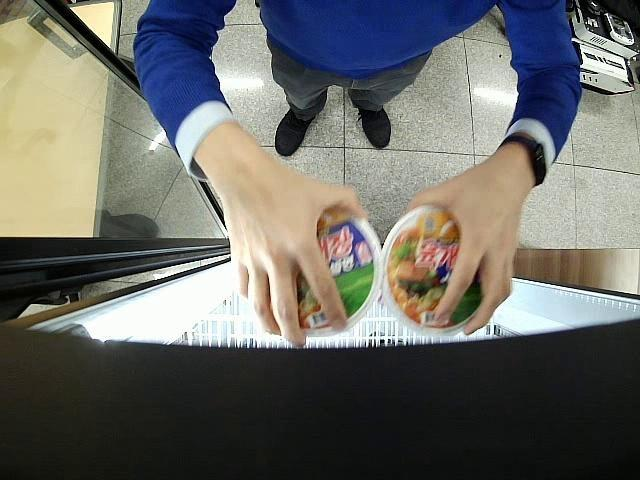09_yukGaeJang: (270, 207, 380, 337), (382, 204, 484, 336)
